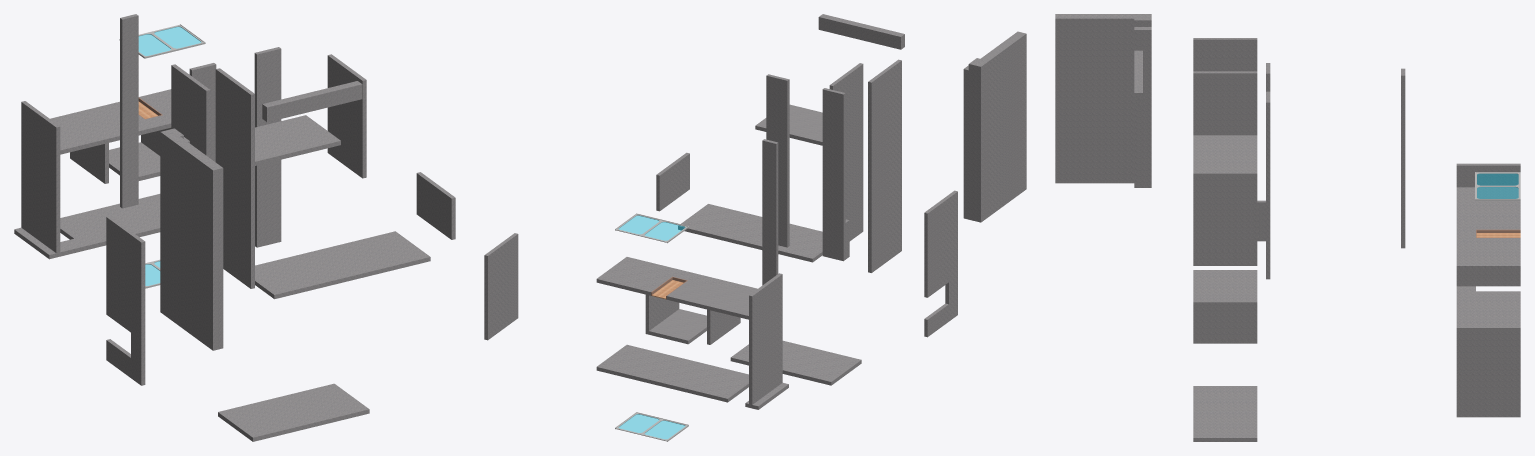
The picture shows the model from 3 angles, left to right: view 1: azimuth 30°, elevation 25°; view 2: azimuth 150°, elevation 25°; view 3: azimuth 270°, elevation 25°; orthographic projection. The views are drawn at different scales.
Parts seen in each view (by area): view 1: 0_0_2_2_1_1; view 2: 0_0_2_2_1_1; view 3: 0_0_2_2_1_1.
Boxes of the visible parts, box(x1,y1,x2,y2) form: 0_0_2_2_1_1: box(14, 14, 455, 441); 0_0_2_2_1_1: box(484, 14, 1026, 441); 0_0_2_2_1_1: box(1055, 14, 1520, 441).
Size of the model in its own units: 18.4 by 17.08 by 21.75.
Materials: 32 (27 with a texture image).
